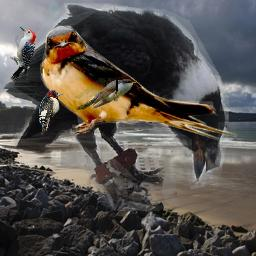Crow: (3, 3, 229, 211)
Cuckoo: (75, 78, 136, 110)
Swallow: (38, 25, 237, 147)
Woodpecker: (10, 26, 36, 82), (39, 90, 63, 135)
